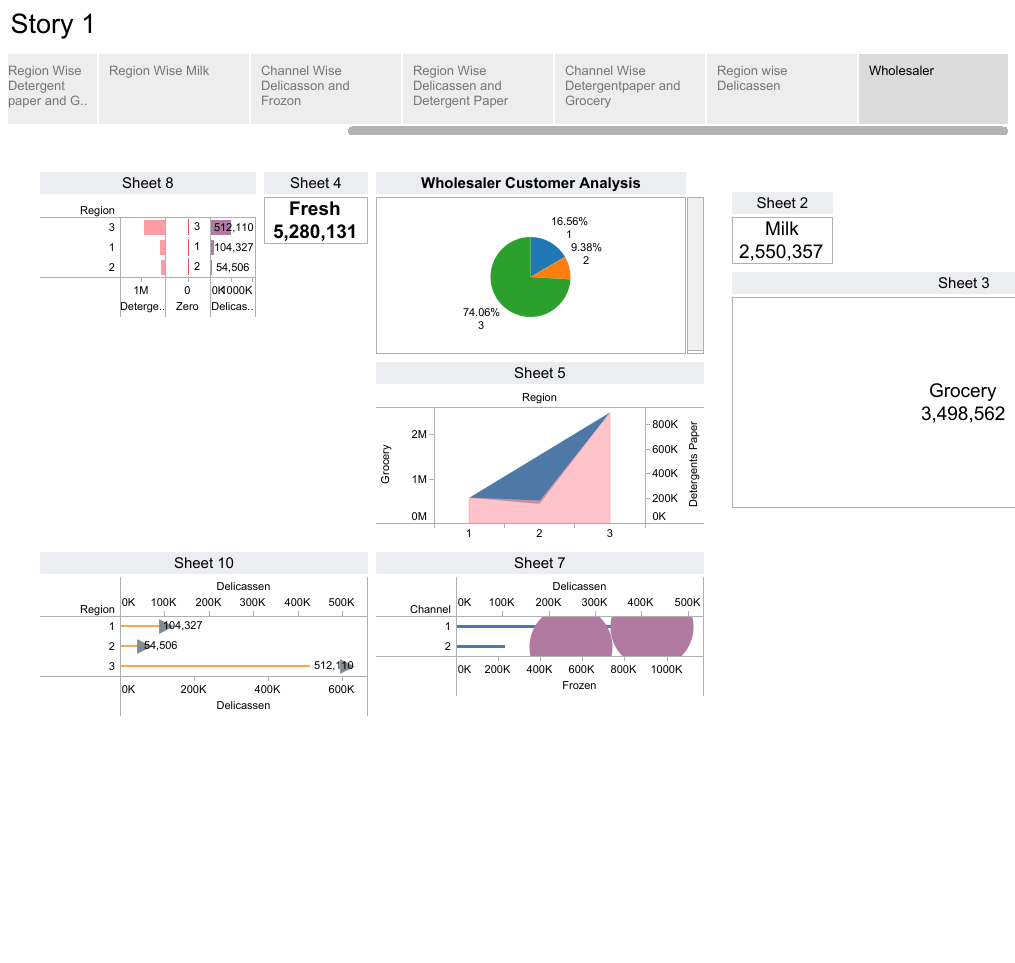

What the dashboard file says about the page in this screenshot:
{"tool":"tableau","page":{"name":"Dashboard 1","canvas":[1000,1000],"units":"permille","ordinal":0},"visuals":[{"type":"worksheet","title":"Sheet 8","mark":"Automatic","rows":["Region"],"cols":["Detergents_Paper","Calculation_187743814769016833","Delicassen"],"box":[20,35,160,465]},{"type":"worksheet","title":"Sheet 4","mark":"Automatic","box":[180,35,80,465]},{"type":"worksheet","title":"Sheet 6","mark":"Pie","box":[260,35,240,232.5]},{"type":"legend","title":"Sheet 5","param":"[federated.0dc0c660bqqjmf1950bpp1xo0t1a].[:Measure Names]","box":[865.7,35,114.3,77.5]},{"type":"worksheet","title":"Sheet 2","mark":"Automatic","box":[514.3,60,337.1,96.2]},{"type":"legend","title":"Sheet 6","param":"[federated.0dc0c660bqqjmf1950bpp1xo0t1a].[none:Region:ok]","box":[865.7,112.5,114.3,102.5]},{"type":"worksheet","title":"Sheet 3","mark":"Automatic","box":[514.3,156.2,337.1,308.8]},{"type":"legend","title":"Sheet 6","param":"[federated.0dc0c660bqqjmf1950bpp1xo0t1a].[sum:Milk:qk]","box":[865.7,215,114.3,52.5]},{"type":"worksheet","title":"Sheet 5","mark":"Automatic","rows":["Grocery","Detergents_Paper"],"cols":["Region"],"box":[260,267.5,240,232.5]},{"type":"worksheet","title":"Sheet 10","mark":"Shape","rows":["Region"],"cols":["Delicassen","Delicassen"],"box":[20,500,240,465]},{"type":"worksheet","title":"Sheet 7","mark":"Automatic","rows":["Channel"],"cols":["Frozen","Delicassen"],"box":[260,500,240,465]}]}

Visuals, with their boxes on the dashboard's canvas, which has no fixed pixel size, in thousandths of its width and height (x1, y1, x2, y2). These are canvas units, not pixel positions in the 1015x963 screenshot, which may show the page scaled, cropped or inside an application window:
"Sheet 8" worksheet: <box>20,35,180,500</box>
"Sheet 4" worksheet: <box>180,35,260,500</box>
"Sheet 6" worksheet (Pie marks): <box>260,35,500,268</box>
"Sheet 5" legend: <box>866,35,980,112</box>
"Sheet 2" worksheet: <box>514,60,851,156</box>
"Sheet 6" legend: <box>866,112,980,215</box>
"Sheet 3" worksheet: <box>514,156,851,465</box>
"Sheet 6" legend: <box>866,215,980,268</box>
"Sheet 5" worksheet: <box>260,268,500,500</box>
"Sheet 10" worksheet (Shape marks): <box>20,500,260,965</box>
"Sheet 7" worksheet: <box>260,500,500,965</box>
